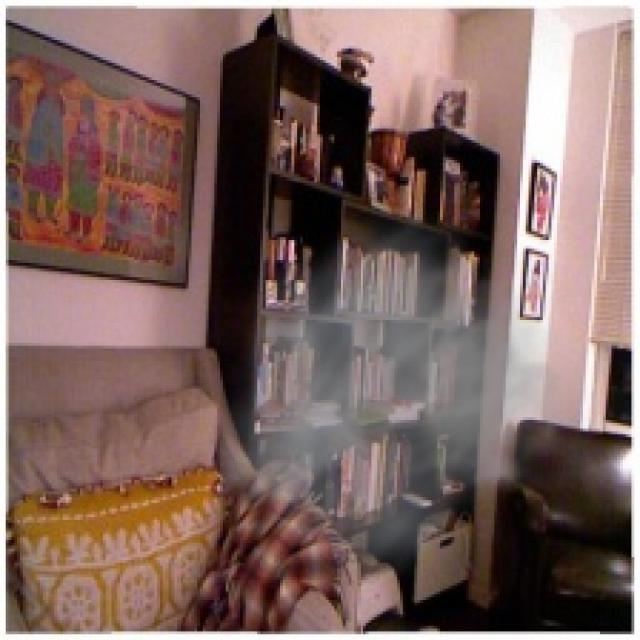smoke: (220, 200, 609, 591)
